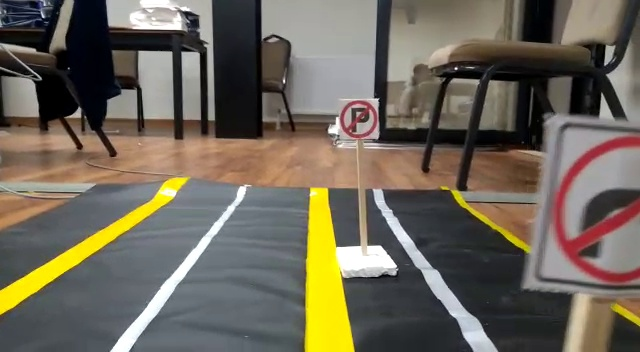park_yapilmaz: (335, 100, 384, 142)
saga_donulmez: (539, 117, 640, 295)
